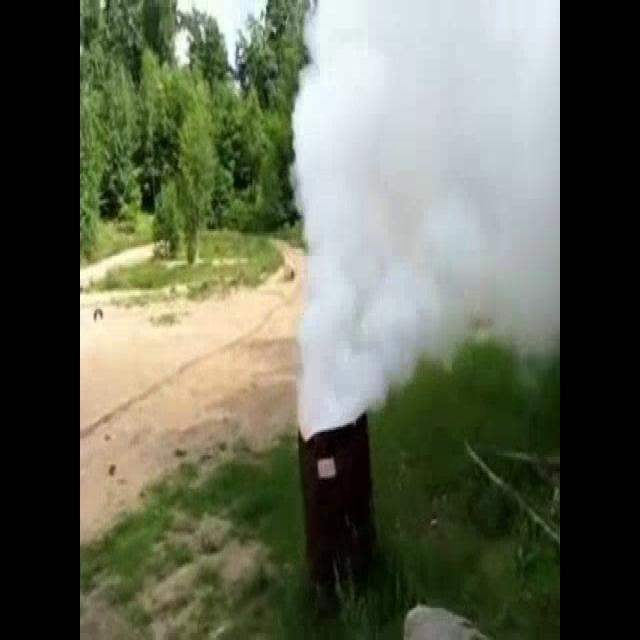Smoke: (289, 0, 560, 441)
